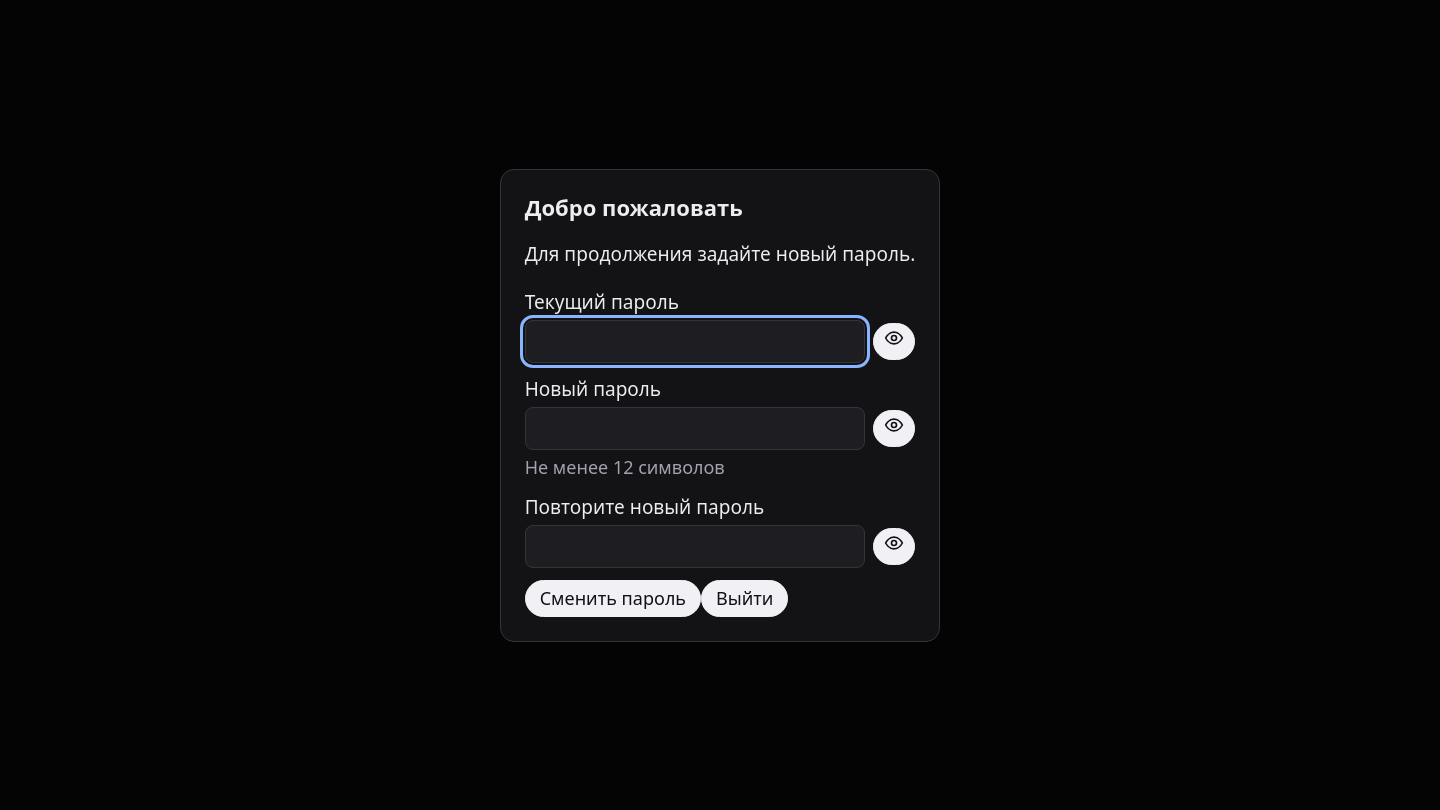
Test: after password change and login (T23) › expired_session_on_password_change_goes_to_login_not_form
The width and height of the screenshot is (1440, 810).
Step 1. Type "Old-Password-123" into the password field labelled "Текущий пароль" → (695, 341), box [525,320,865,362]
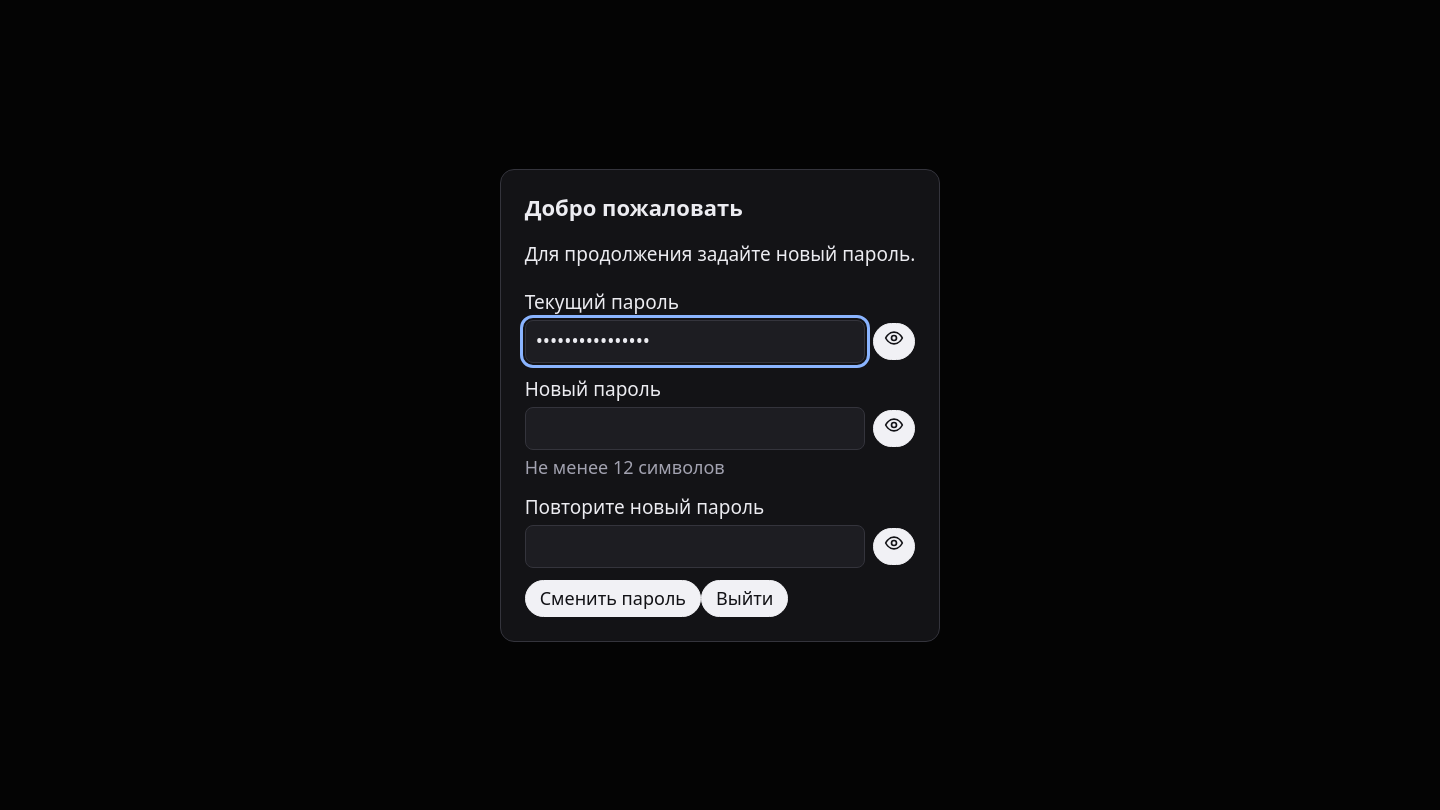
Step 2. Type "New-Password-12345" into the password field labelled "Новый пароль" → (695, 428), box [525,407,865,450]
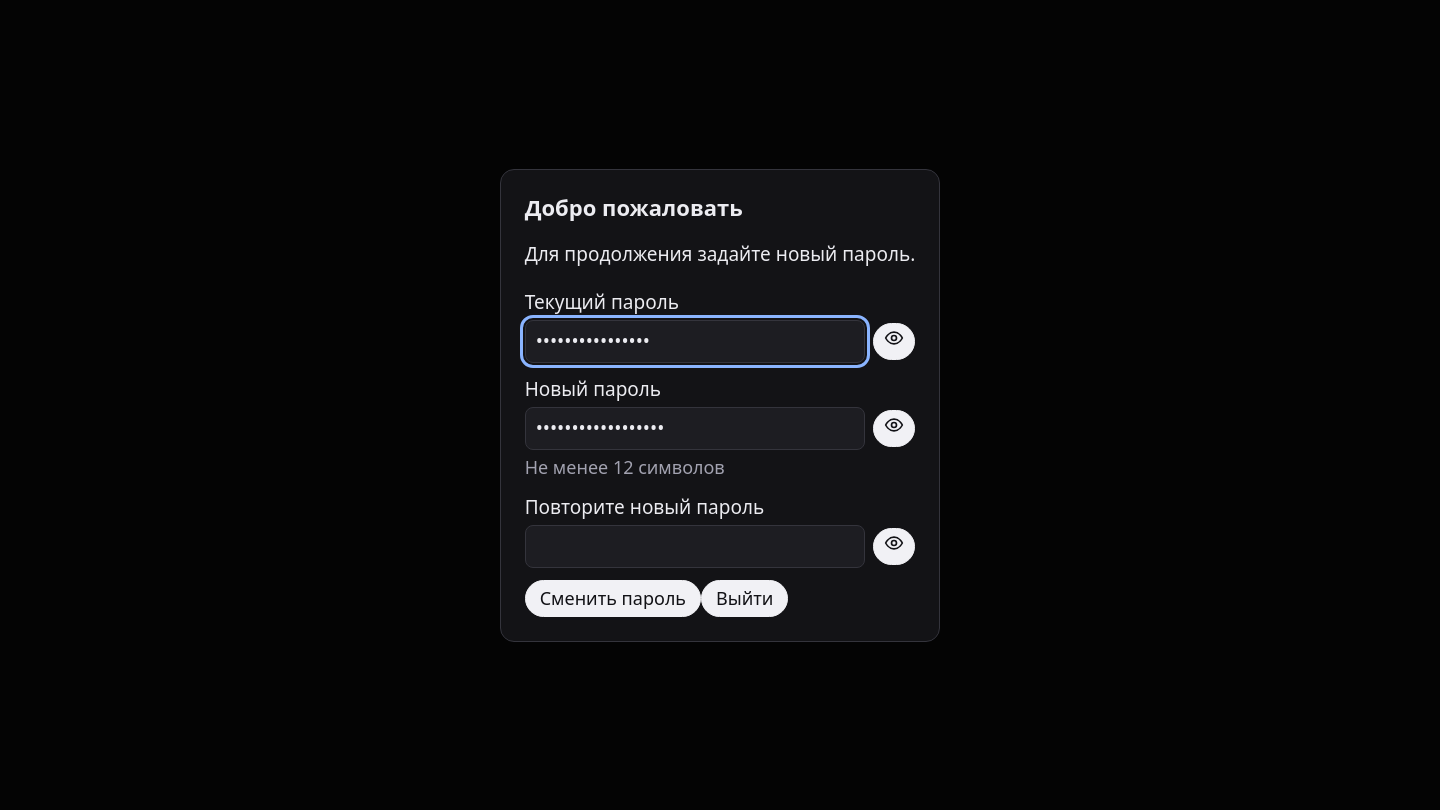
Step 3. Type "New-Password-12345" into the password field labelled "Повторите новый пароль" → (695, 546), box [525,525,865,568]
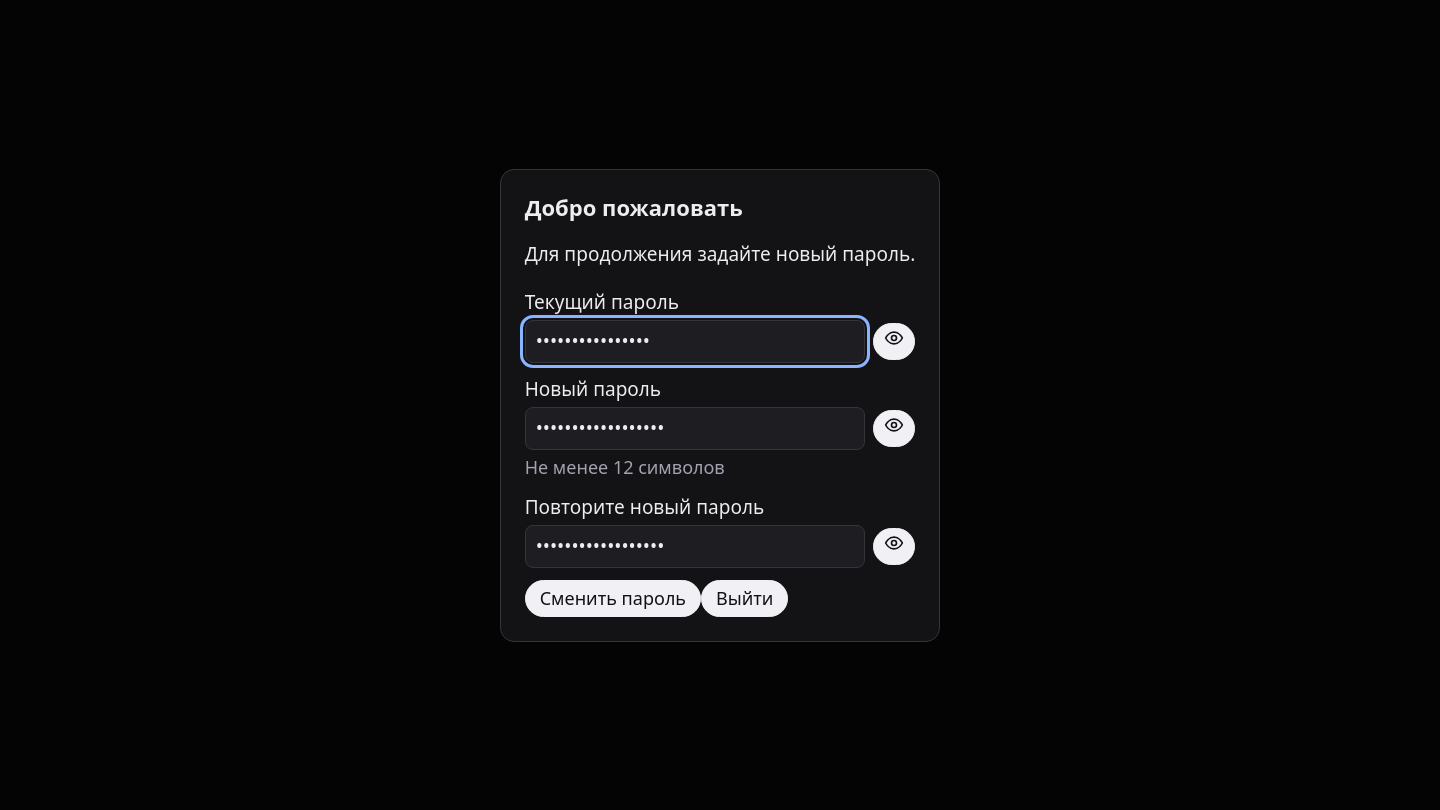
Step 4. Click the submit button → (613, 598), box [525,580,701,616]
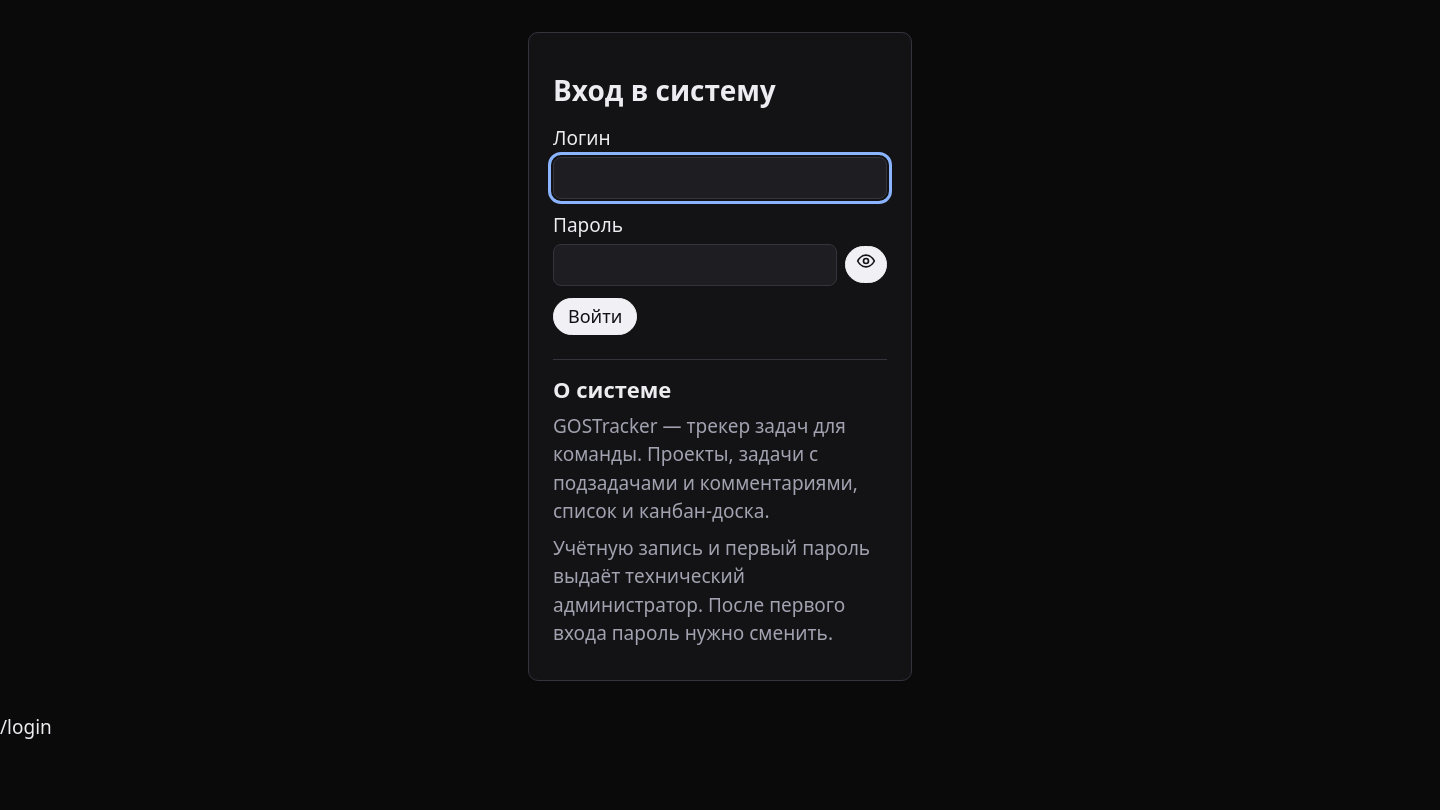
Expected: the text with test id "where" reads "/login", [0,714,52,740]
